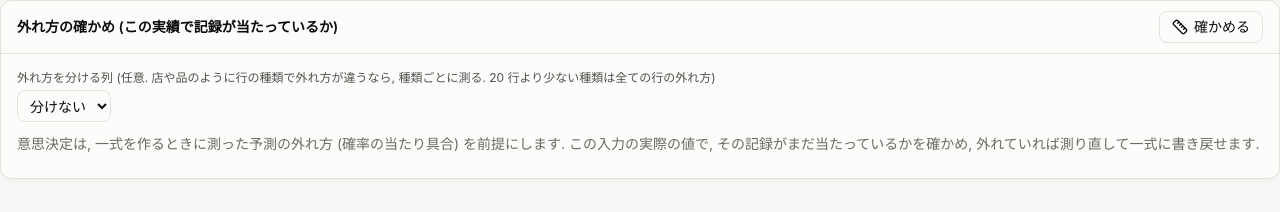
外れ方の確かめの分ける列 › 選んだ列を測り直しに渡し, 種類ごとの文を出す
Later steps or results of the test are not shown.
Select "shop" in the dropdown labelled "外れ方を分ける列". click: (64, 106)
box: [17,90,111,122]
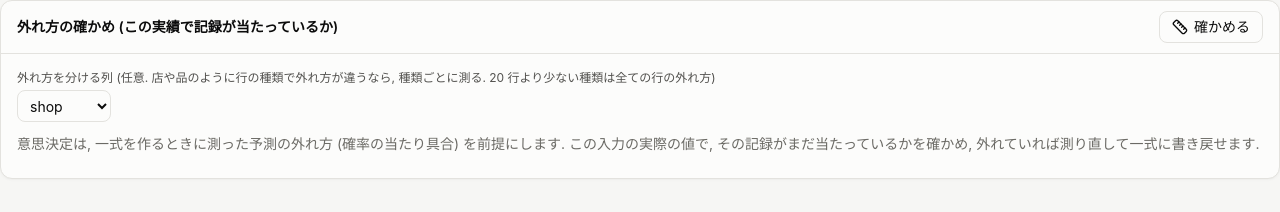
Click the button "確かめる". click: (1211, 27)
box: [1159,11,1263,43]
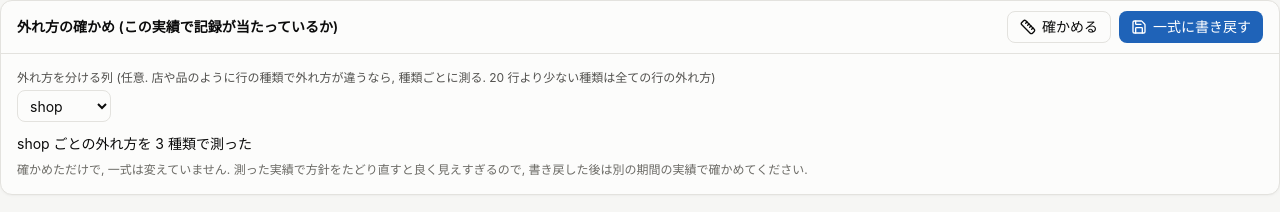
Expected: the list item "shop ごとの外れ方を 3 種類で測った" is shown, [17,135,252,152]
